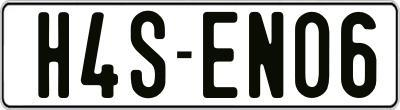0: (294, 12, 330, 99)
4: (78, 11, 120, 97)
6: (338, 12, 374, 104)
E: (202, 11, 238, 102)
H: (36, 10, 73, 97)
N: (246, 11, 284, 102)
S: (131, 11, 168, 103)
